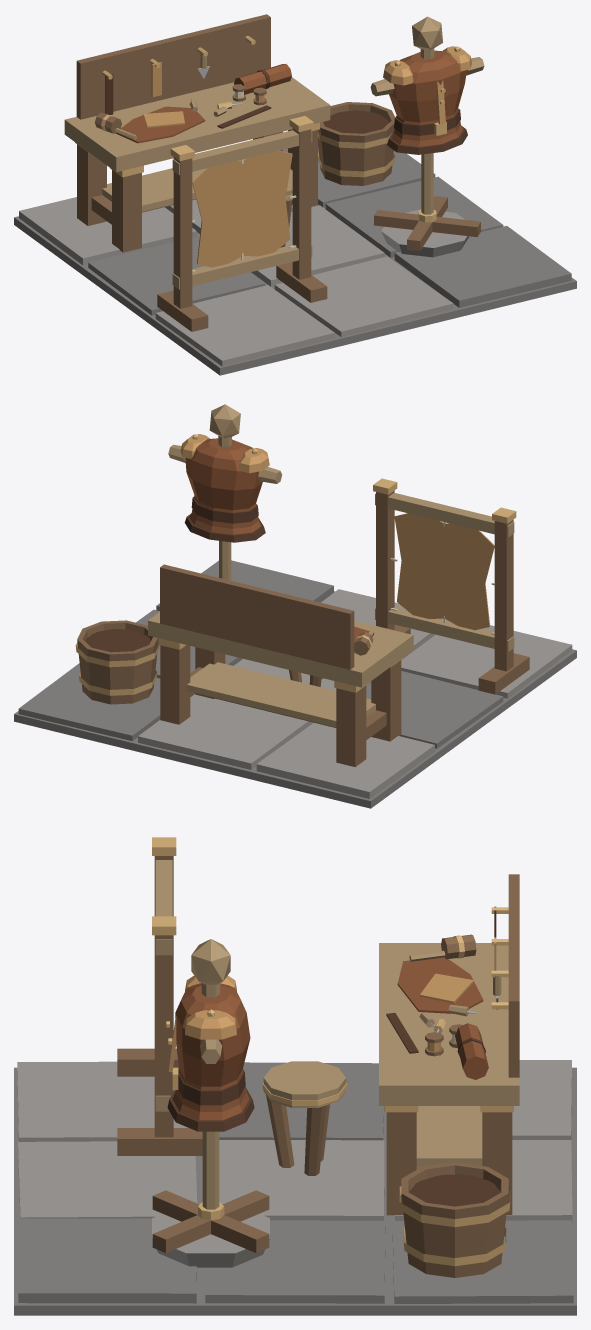
The model's file is leatherworks.glb.
3 views of the same model, one above another, from view 1: azimuth 30°, elevation 25°; view 2: azimuth 150°, elevation 25°; view 3: azimuth 270°, elevation 25° (orthographic). The views are drawn at different scales.
Visible parts, largest first — view 1: bench_toolboard, bench_top, stretched_hide, floor_tile_20, floor_tile_00, floor_tile_10, floor_base, floor_tile_01, floor_tile_02, jerkin, tanning_tub, floor_tile_21 (+25 smaller); view 2: bench_toolboard, stretched_hide, floor_tile_12, floor_tile_02, floor_base, bench_top, floor_tile_00, bench_shelf, floor_tile_22, floor_tile_01, jerkin, tanning_tub (+17 smaller); view 3: bench_top, floor_tile_20, floor_tile_21, floor_tile_10, floor_base, floor_tile_11, floor_tile_00, floor_tile_22, tanning_tub, floor_tile_01, jerkin, floor_tile_12 (+27 smaller).
Boxes of the visible parts, x1,y1,x2,y2 form: bench_toolboard: (76,14,270,119); bench_top: (64,77,330,172); stretched_hide: (192,150,292,267); floor_tile_20: (394,226,571,307); floor_tile_00: (155,285,334,366); floor_tile_10: (274,256,453,337); floor_base: (14,204,576,375); floor_tile_01: (88,236,264,315); floor_tile_02: (19,197,196,265); jerkin: (389,50,466,146); tanning_tub: (318,102,395,185); floor_tile_21: (325,176,503,257); bench_toolboard: (160,564,354,669); stretched_hide: (394,513,494,630); floor_tile_12: (138,694,313,769); floor_tile_02: (256,723,434,798); floor_base: (14,591,576,808); bench_top: (148,612,413,687); floor_tile_00: (401,625,572,698); bench_shelf: (187,662,375,727); floor_tile_22: (18,663,160,741); floor_tile_01: (366,671,503,748); jerkin: (185,438,262,534); tanning_tub: (75,620,159,704); bench_top: (379,943,519,1105); floor_tile_20: (18,1218,196,1303); floor_tile_21: (205,1220,385,1303); floor_tile_10: (18,1141,197,1218); floor_base: (14,1067,576,1315); floor_tile_11: (219,1140,384,1220); floor_tile_00: (17,1061,188,1141); floor_tile_22: (392,1220,573,1303); tanning_tub: (399,1162,510,1277); floor_tile_01: (219,1062,384,1140); jerkin: (172,983,250,1120); floor_tile_12: (395,1140,572,1223).
Size of what is drawn, in the model's own units: 3 by 1.91 by 3.
